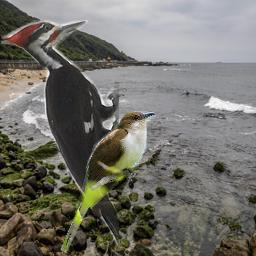Cuckoo: (60, 110, 156, 253)
Woodpecker: (1, 20, 119, 248)
